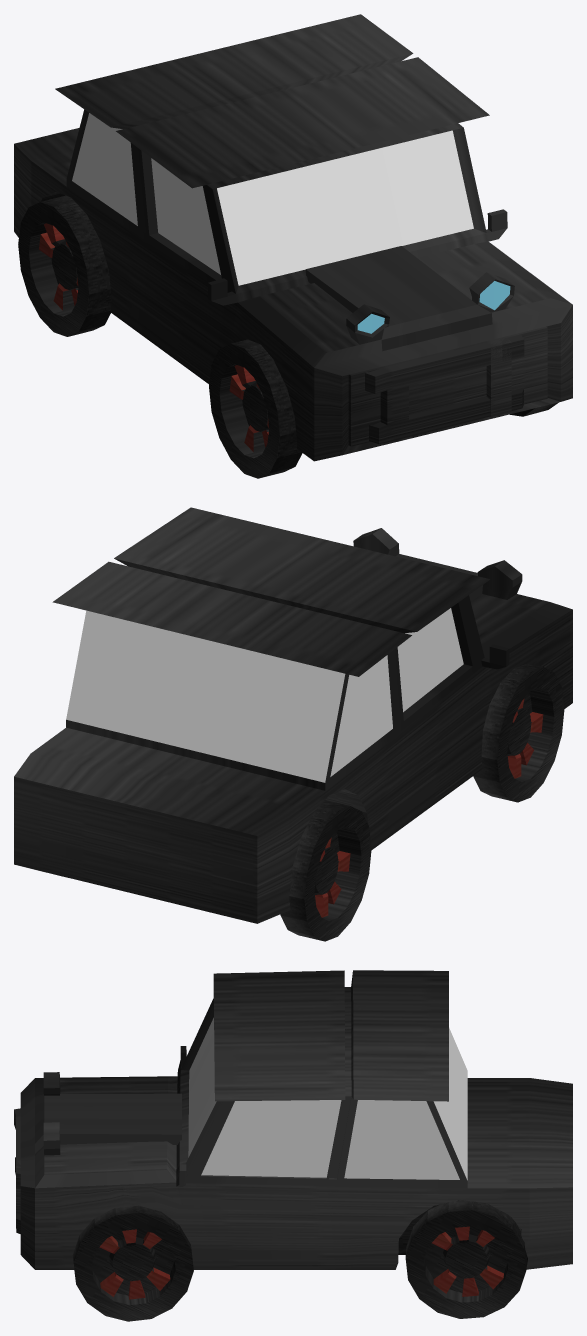
The model's file is car.fbx.
3 views of the same model, one above another, from view 1: azimuth 30°, elevation 25°; view 2: azimuth 150°, elevation 25°; view 3: azimuth 270°, elevation 25° (orthographic). The views are drawn at different scales.
Parts seen in each view (by area): view 1: Cylinder.013; view 2: Cylinder.013; view 3: Cylinder.013.
Boxes of the visible parts, x1,y1,x2,y2 form: Cylinder.013: (14,14,572,478); Cylinder.013: (14,507,572,941); Cylinder.013: (14,970,572,1321).
Size of the model in its own units: 10.46 by 8.43 by 18.93.
